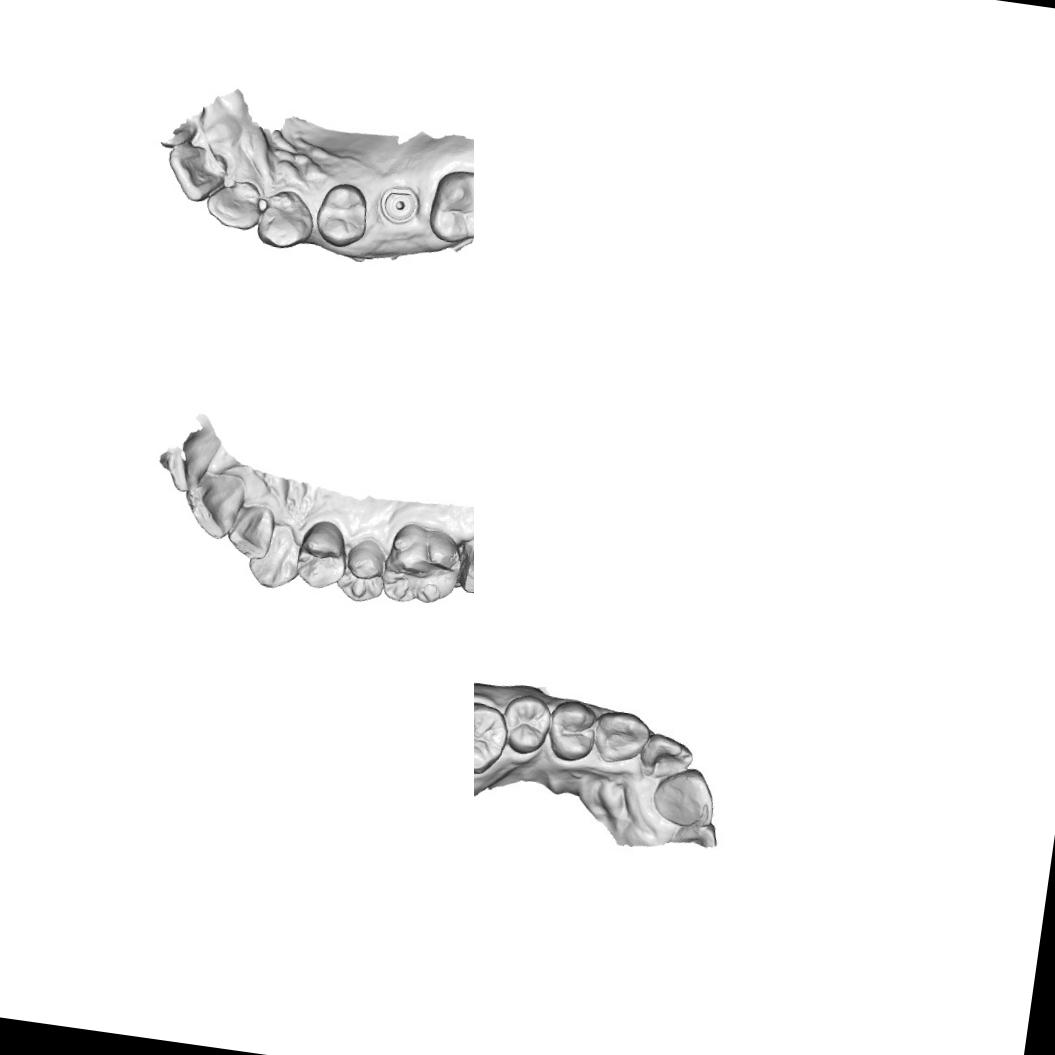canine: (252, 184, 319, 254), (246, 518, 303, 593), (591, 709, 646, 766)
crown: (456, 528, 474, 601)
implant: (376, 181, 423, 226)
incisor: (182, 467, 250, 544), (642, 764, 716, 830), (162, 140, 228, 206), (162, 431, 224, 499), (637, 724, 698, 788), (200, 178, 263, 234), (223, 500, 278, 563)
molar: (377, 518, 469, 610), (423, 164, 474, 250), (474, 695, 512, 778)
premolar: (290, 514, 352, 594), (312, 178, 374, 252), (335, 533, 392, 607), (498, 688, 554, 757), (548, 698, 600, 763)
